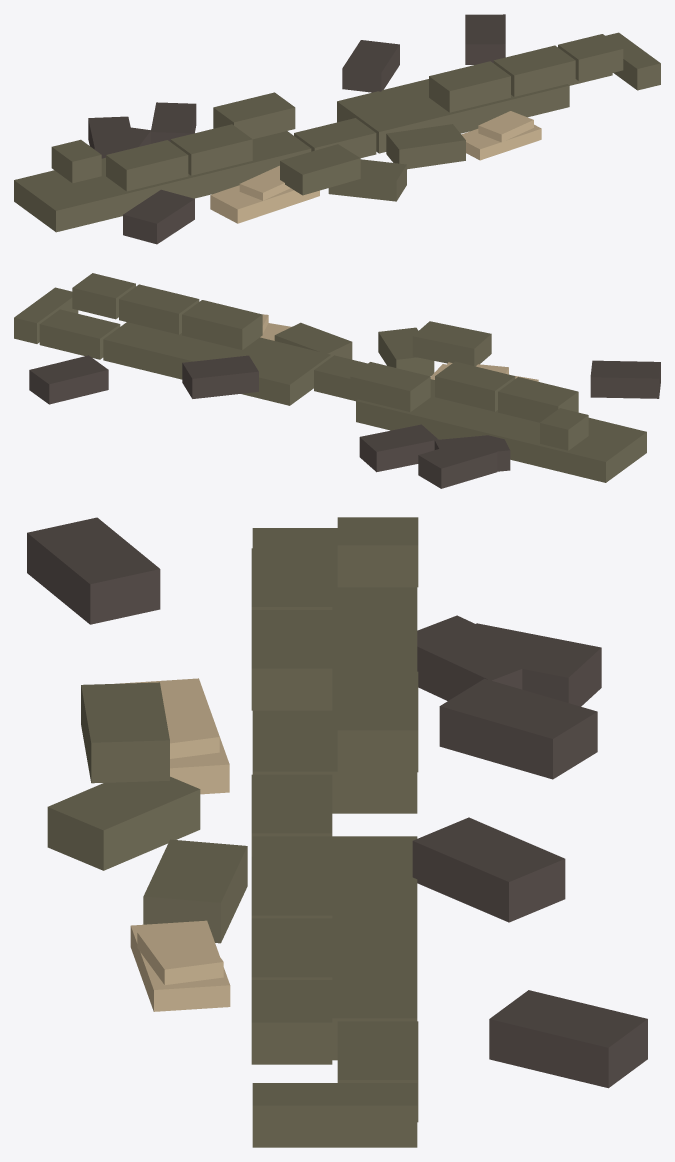
Rendered from SM_MuroSacos_v1_Talud_e2_MuyDanado_LOD1.fbx.
The picture shows the model from 3 angles, top to bottom: view 1: azimuth 30°, elevation 25°; view 2: azimuth 150°, elevation 25°; view 3: azimuth 270°, elevation 25°; orthographic projection. The views are drawn at different scales.
Visible parts, largest first — view 1: SM_bloques.muro_sacos_estados_v6_LOD1; view 2: SM_bloques.muro_sacos_estados_v6_LOD1; view 3: SM_bloques.muro_sacos_estados_v6_LOD1.
Part boxes in pixels (x1,y1,x2,y2): SM_bloques.muro_sacos_estados_v6_LOD1: (14, 14, 660, 244); SM_bloques.muro_sacos_estados_v6_LOD1: (14, 273, 660, 488); SM_bloques.muro_sacos_estados_v6_LOD1: (27, 517, 647, 1147).
Size of the model in its own units: 7.96 by 0.585 by 3.61.
